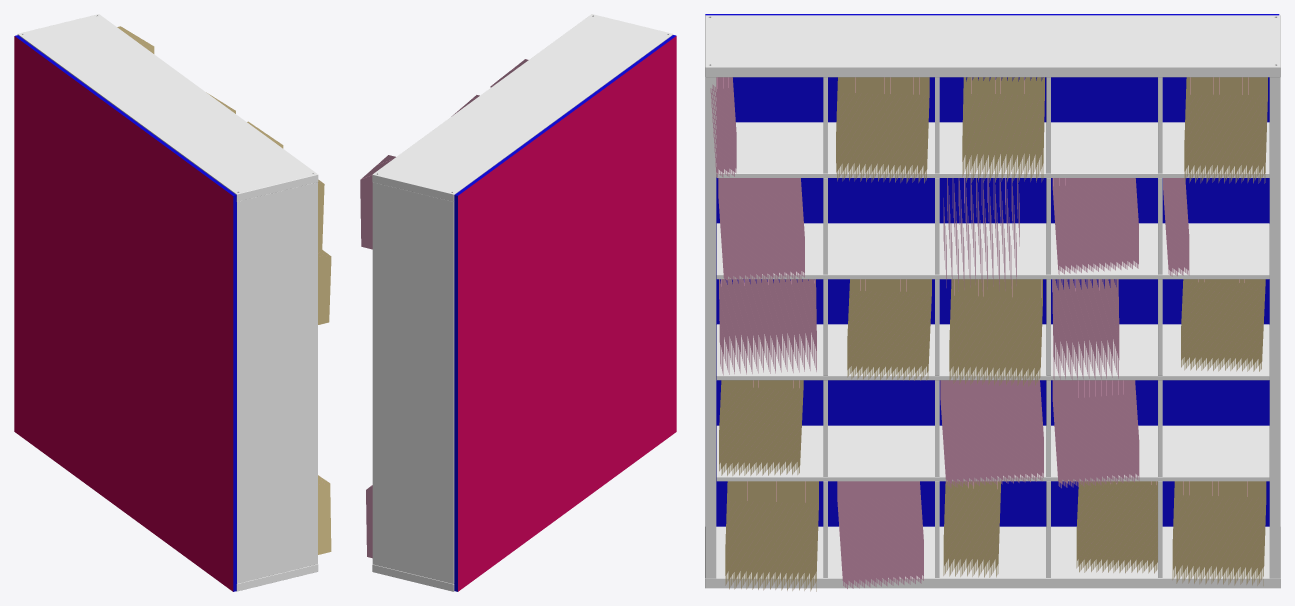
File: KALLAxForUnity 1.fbx
3 views of the same model, side by side, from view 1: azimuth 30°, elevation 25°; view 2: azimuth 150°, elevation 25°; view 3: azimuth 270°, elevation 25° (orthographic). The views are drawn at different scales.
Parts seen in each view (by area): view 1: RückwandKalax, KALLAX_182x182, imgstack.007, imgstack.009; view 2: RückwandKalax, KALLAX_182x182, imgstack.010, imgstack.006; view 3: KALLAX_182x182, RückwandKalax, imgstack.001, imgstack.007, imgstack.002, imgstack.015, imgstack.006, imgstack.003, imgstack.008, imgstack.009, imgstack.010, imgstack.011 (+11 smaller).
Boxes of the visible parts, x1,y1,x2,y2 form: RückwandKalax: (14, 35, 236, 591); KALLAX_182x182: (17, 14, 318, 591); imgstack.007: (318, 475, 331, 554); imgstack.009: (318, 250, 331, 324); RückwandKalax: (454, 35, 676, 591); KALLAX_182x182: (372, 14, 673, 591); imgstack.010: (360, 155, 395, 249); imgstack.006: (366, 485, 372, 558); KALLAX_182x182: (705, 15, 1280, 588); RückwandKalax: (705, 14, 1279, 526); imgstack.001: (940, 380, 1043, 487); imgstack.007: (725, 481, 818, 591); imgstack.002: (949, 279, 1042, 386); imgstack.015: (836, 77, 929, 183); imgstack.006: (1172, 481, 1266, 585); imgstack.003: (1052, 380, 1139, 488); imgstack.008: (837, 481, 923, 588); imgstack.009: (718, 178, 804, 284); imgstack.010: (1184, 77, 1267, 183); imgstack.011: (719, 279, 816, 375).
Size of the model in its own units: 53.53 by 182 by 183.
